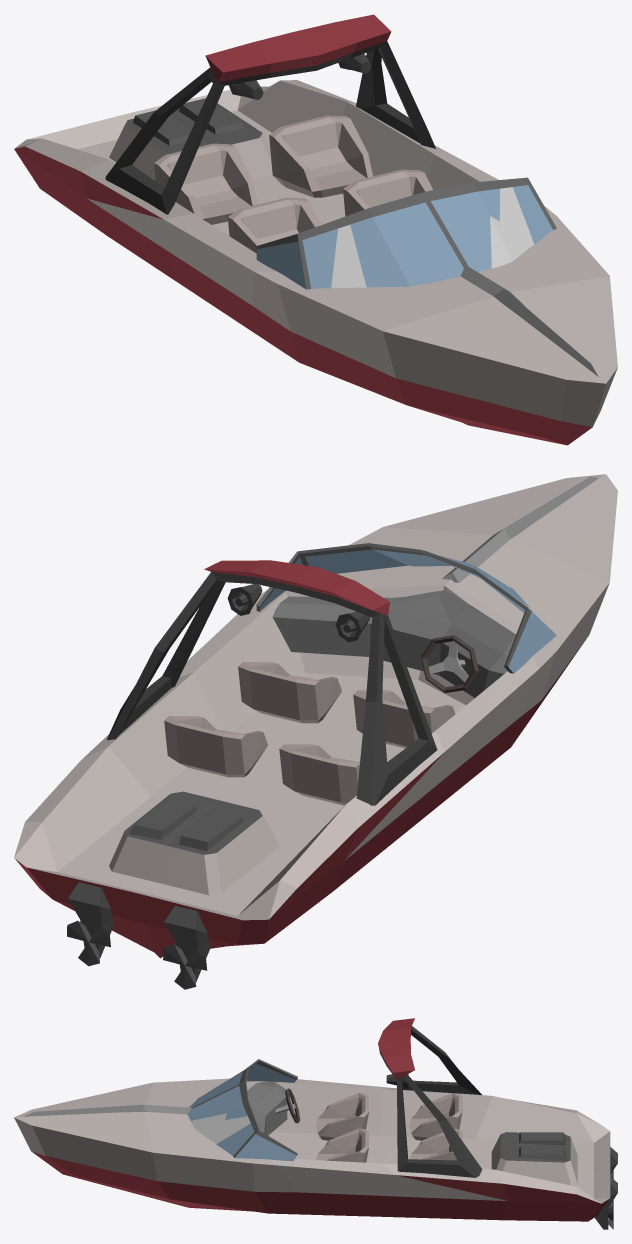
The model's file is Boat A.fbx.
3 renders of one model, top to bottom at view 1: azimuth 30°, elevation 25°; view 2: azimuth 150°, elevation 25°; view 3: azimuth 270°, elevation 25°, orthographic. The views are drawn at different scales.
Visible parts, largest first — view 1: Boat A; view 2: Boat A; view 3: Boat A.
Part boxes in pixels (left/top/right/bottom): Boat A: left=14, top=14, right=617, bottom=445; Boat A: left=14, top=474, right=617, bottom=989; Boat A: left=14, top=1018, right=617, bottom=1229.
Bounding box in the file's own units: 208 × 194 × 601.
